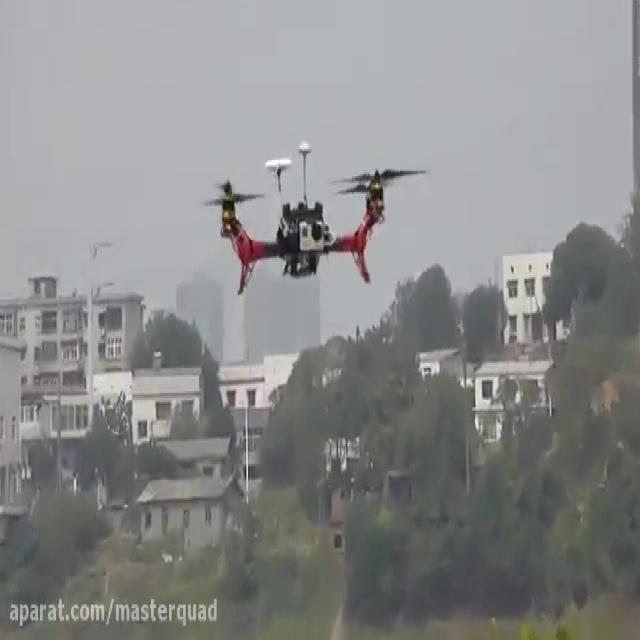drone: (197, 137, 427, 299)
